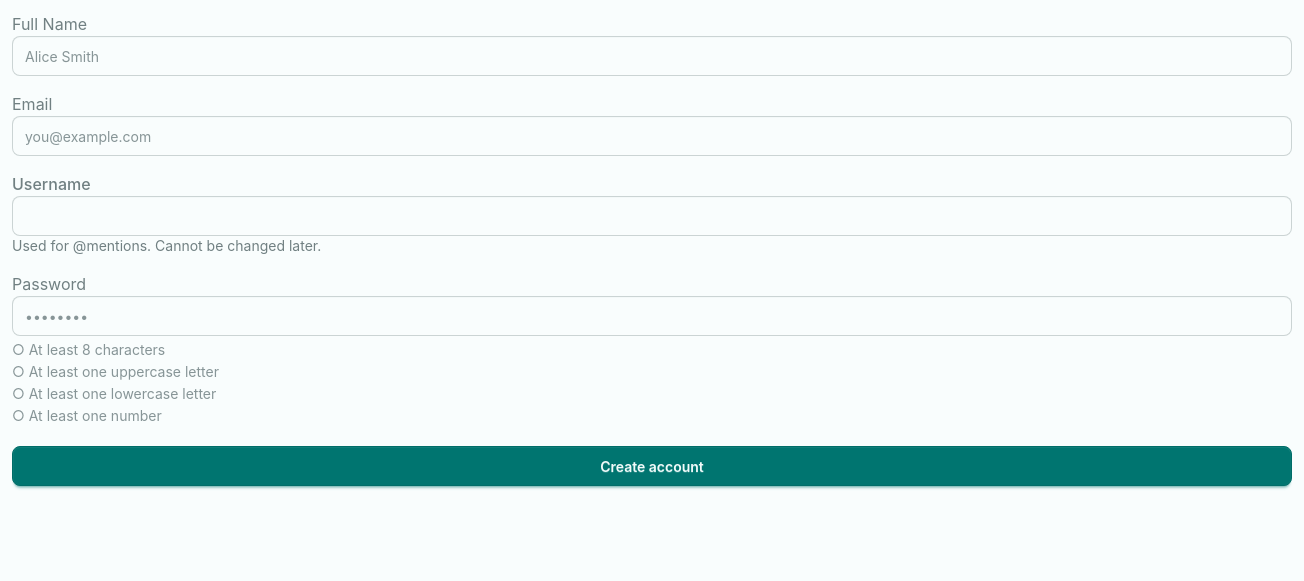
Test: RegisterForm: username › still reports other failures as a general error
This screenshot has width=1304, height=581.
Type "Sam Smith" into the field with placeholder "Alice Smith" at (652, 56), box top-left (12, 36), bottom-right (1292, 76)
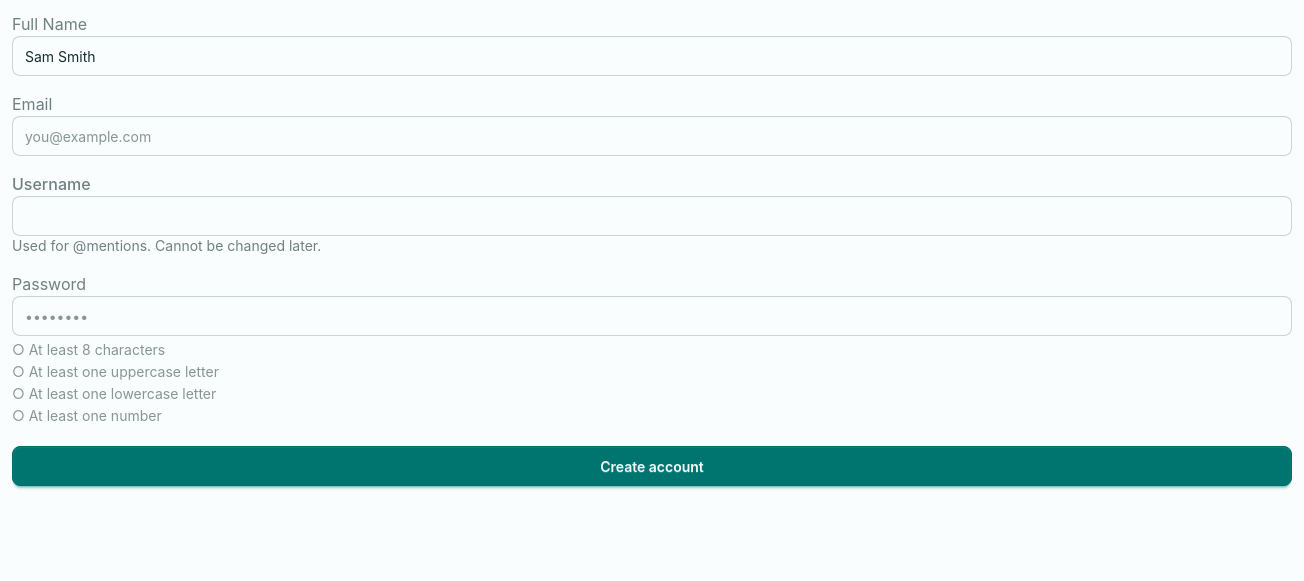
Type "Sam-Smith@example.com" into the field with placeholder "you@example.com" at (652, 136), box top-left (12, 116), bottom-right (1292, 156)
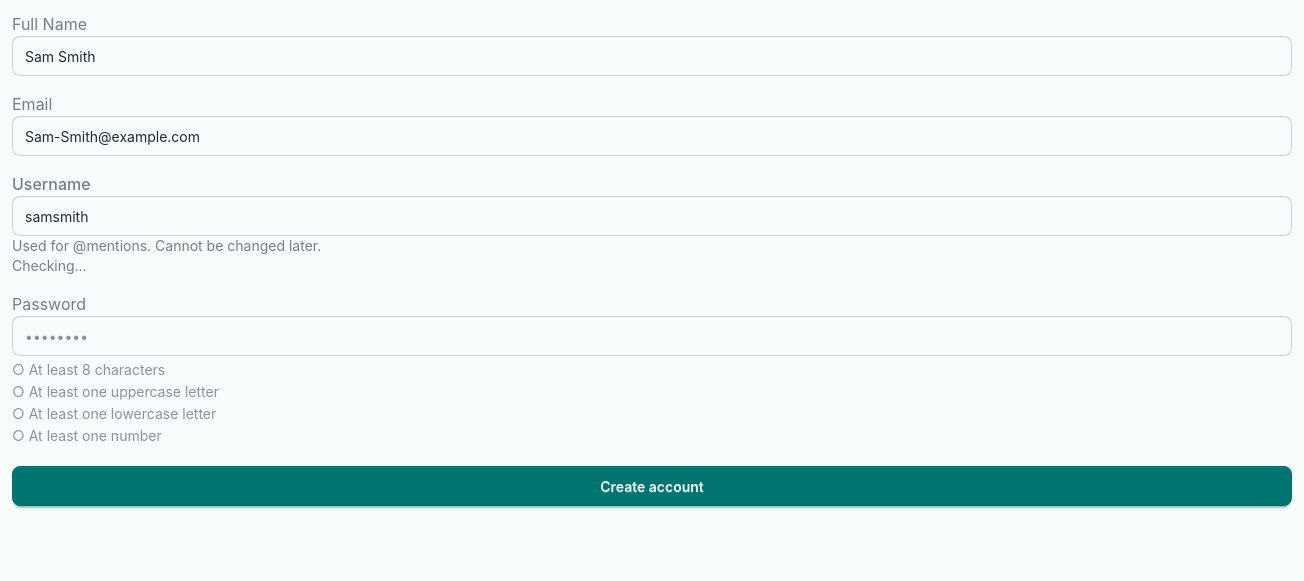
Type "Passw0rd!x" into the password field with placeholder "••••••••" at (652, 336), box top-left (12, 316), bottom-right (1292, 356)
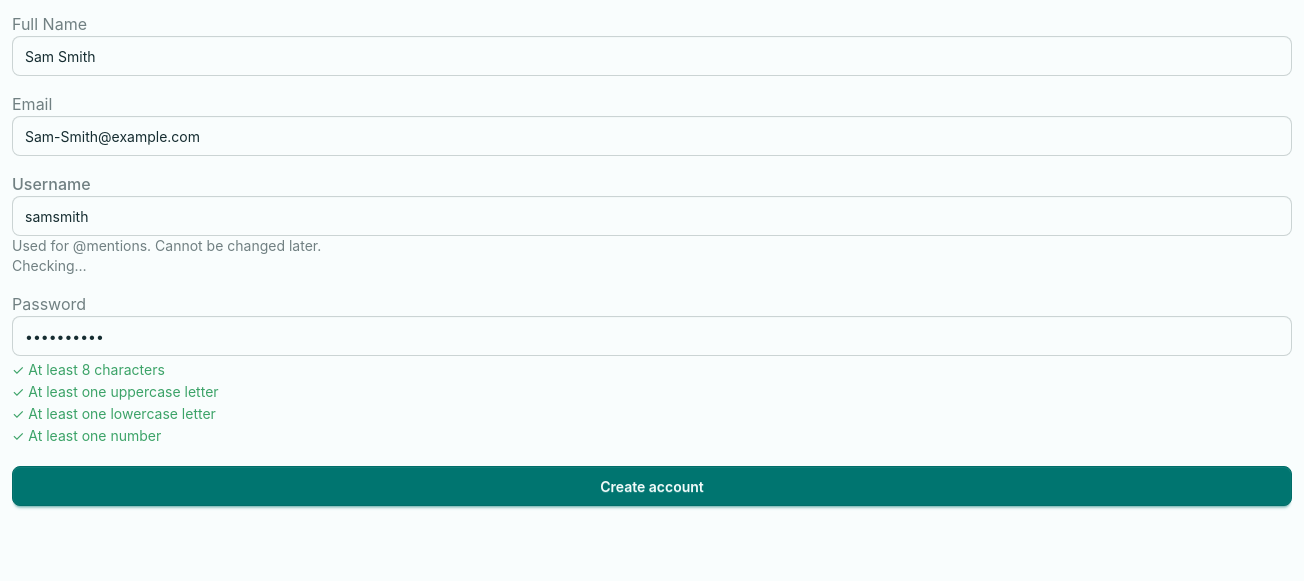
Submit the form
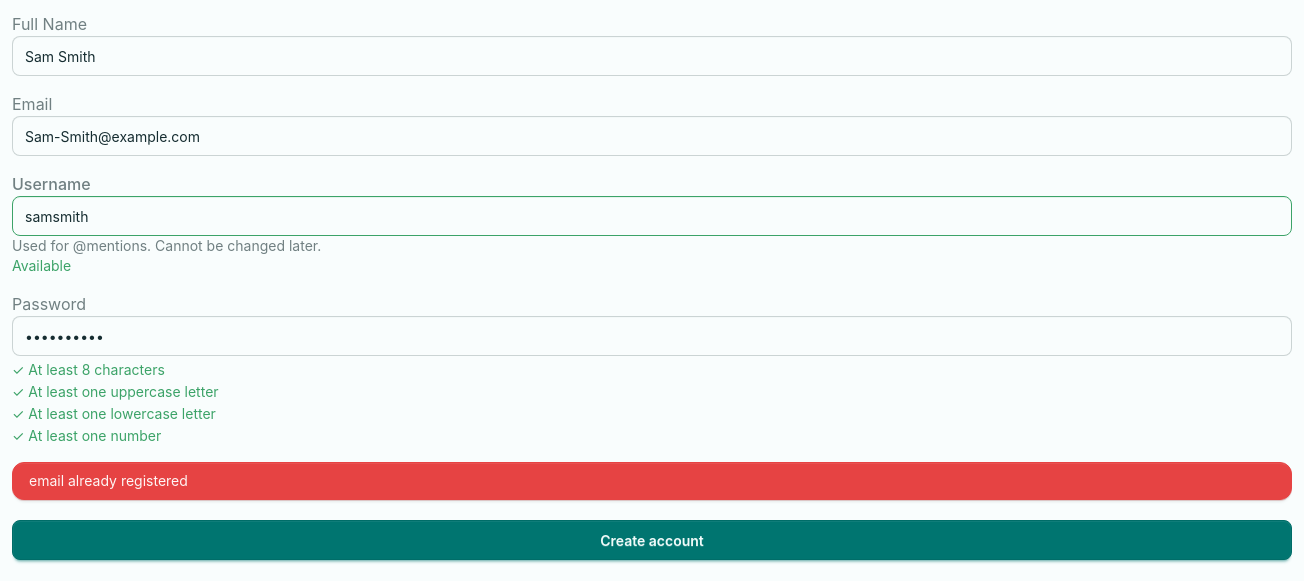
Check: the text with class "alert-error" reads "email already registered", box top-left (29, 472), bottom-right (188, 489)
